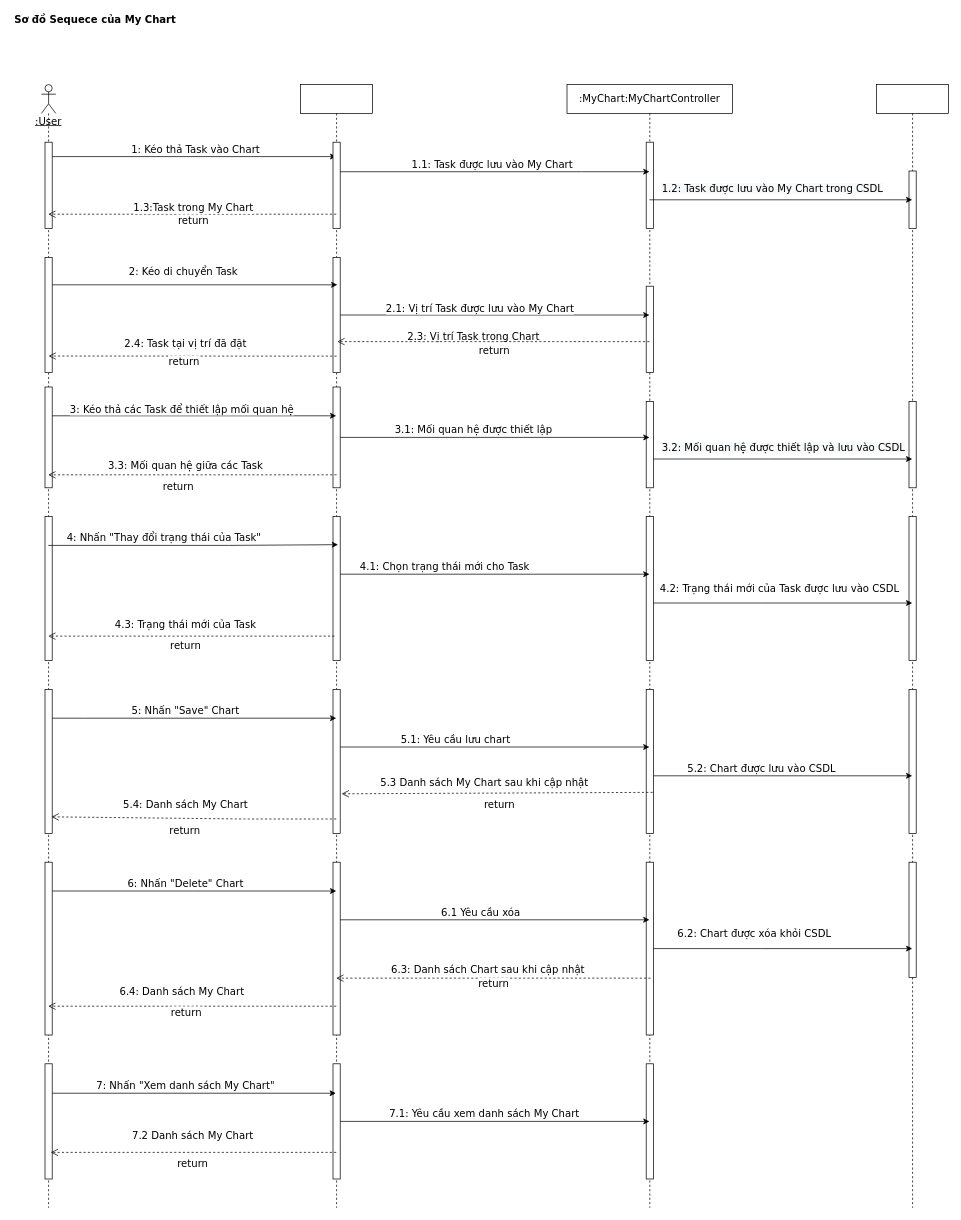
Image size: 961x1220. Some labels were removed from this diagram. The shapes that lost their labels are listed below. From the top down, each one's centre as x and y in pixels, then its label:
(336,646): :My Chart UI
(912,646): :Database
